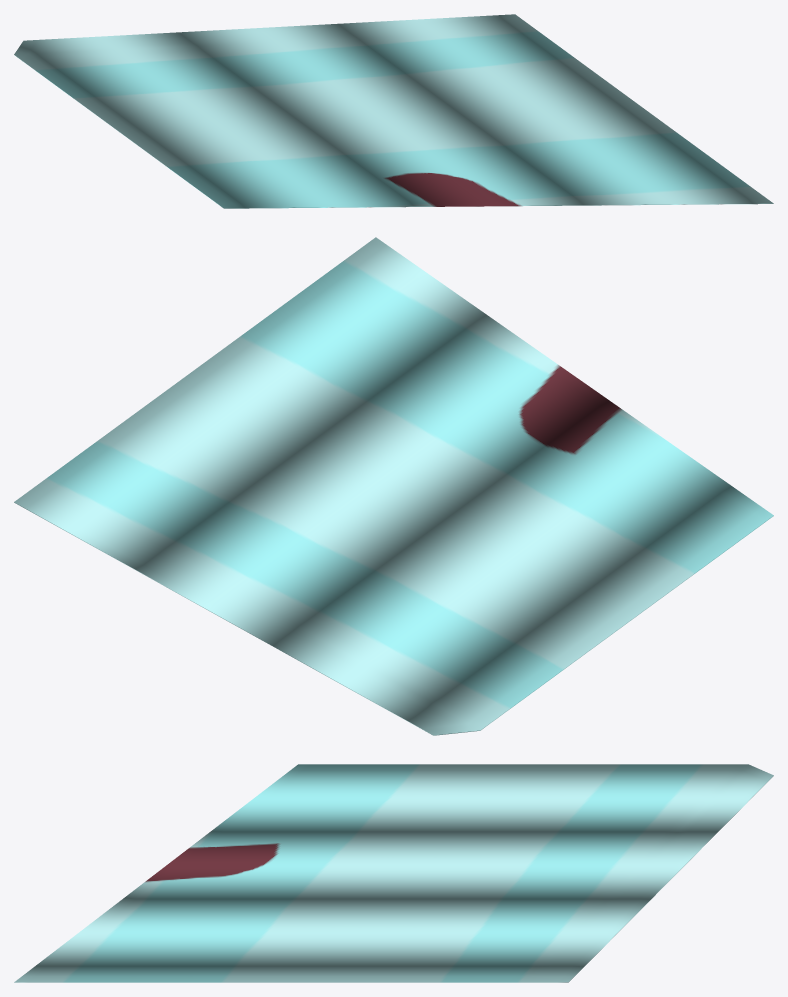
Rendered from Level 121.fbx.
3 views of the same model, one above another, from view 1: azimuth 30°, elevation 25°; view 2: azimuth 150°, elevation 25°; view 3: azimuth 270°, elevation 25° (orthographic). The views are drawn at different scales.
Parts seen in each view (by area): view 1: dam; view 2: dam; view 3: dam.
Part boxes in pixels (bbox=[...]): dam: bbox=[14, 14, 773, 208]; dam: bbox=[14, 237, 773, 735]; dam: bbox=[14, 764, 773, 982].
Size of what is drawn, in the model's own units: 748 by 0.5893 by 1100.
